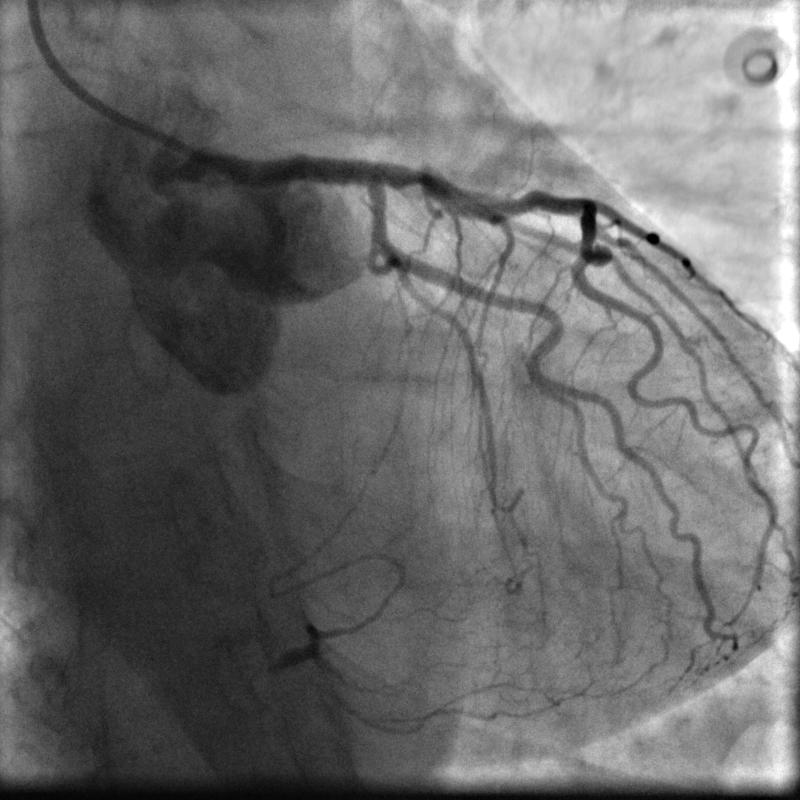Stenosis: (398, 159, 435, 199)
